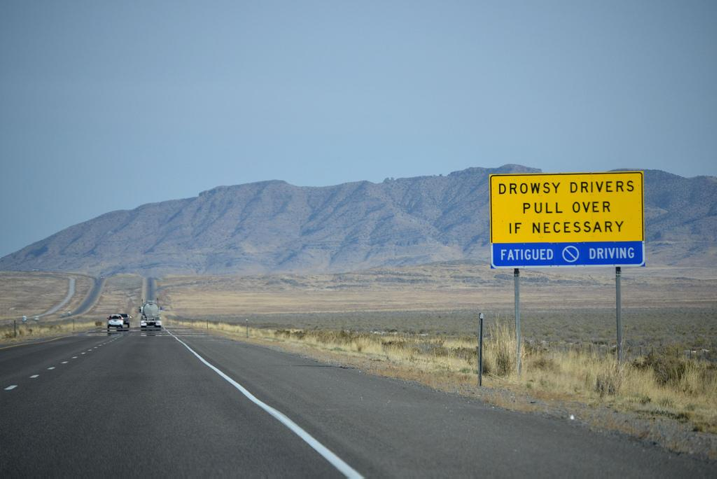car: (105, 313, 125, 329), (114, 313, 132, 329)
